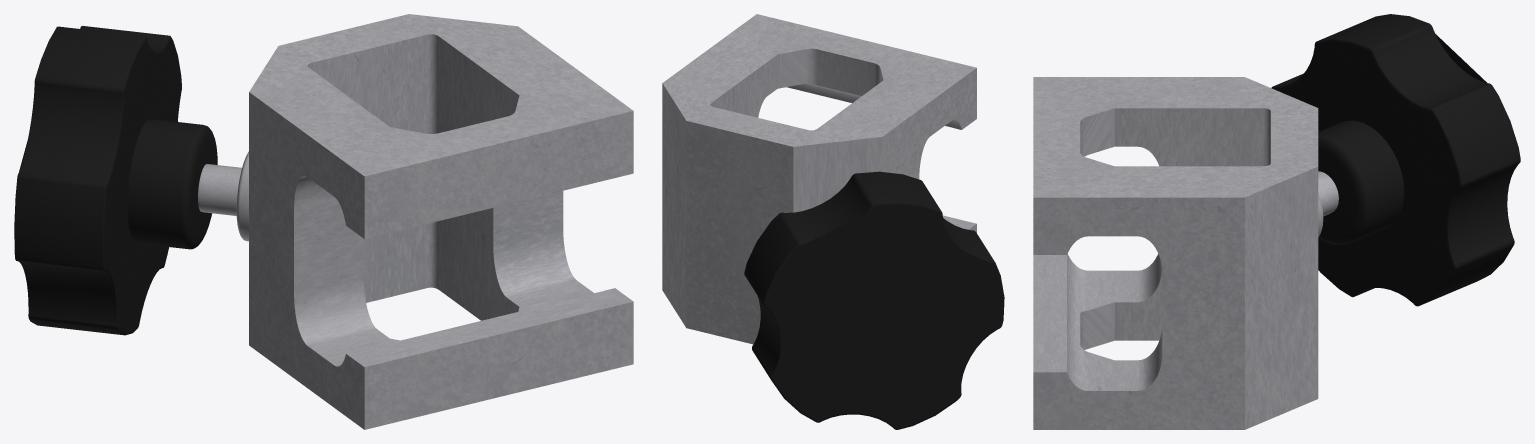
File: heavy_quadrate_clamp.fbx
The picture shows the model from 3 angles, left to right: view 1: azimuth 30°, elevation 25°; view 2: azimuth 150°, elevation 25°; view 3: azimuth 270°, elevation 25°; orthographic projection. The views are drawn at different scales.
Parts seen in each view (by area): view 1: clamp, knob, screw; view 2: clamp, knob; view 3: clamp, knob, screw.
Boxes of the visible parts, x1=… form: clamp: x1=236, y1=14, x2=633, y2=429; knob: x1=14, y1=26, x2=217, y2=335; screw: x1=198, y1=164, x2=241, y2=215; clamp: x1=662, y1=14, x2=976, y2=344; knob: x1=744, y1=171, x2=1004, y2=429; clamp: x1=1033, y1=77, x2=1323, y2=429; knob: x1=1271, y1=14, x2=1520, y2=306; screw: x1=1318, y1=171, x2=1338, y2=216.
Size of the model in its own units: 0.0754 by 0.0437 by 0.0753.
2 materials, 2 textured.
